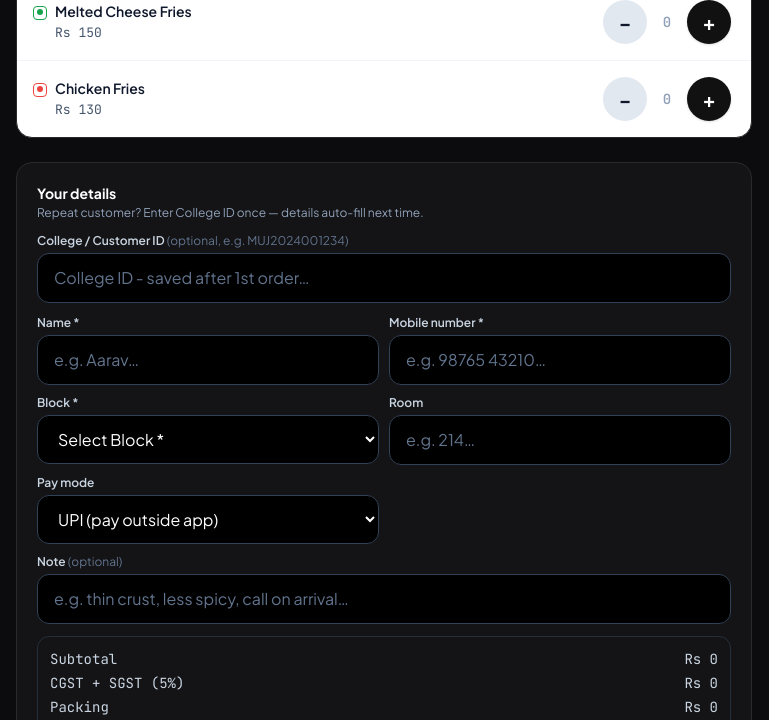
Test: ZeroDegreeCustomerView - College ID + mobile friendly › pulls saved details from the server on a new device via phone number
(page scrolled)
Type "9876500001" into the field with placeholder "e.g. 98765 43210…" at (560, 360), box [389,335,731,385]
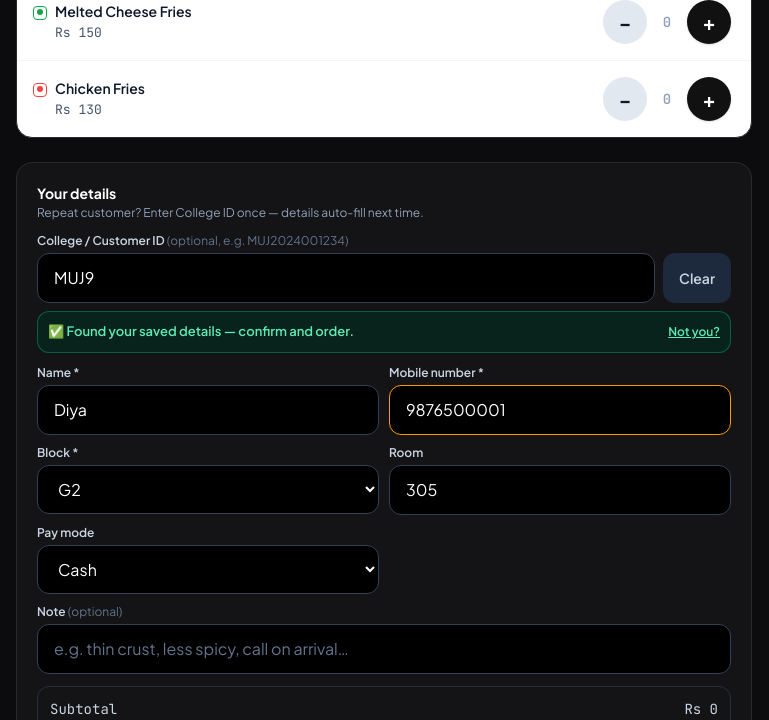
Check: the text "Found your saved details for 9876500001" is shown, box [48,322,354,342]
Check: the field with placeholder "e.g. Aarav…" holds "Diya", box [37,385,379,435]
